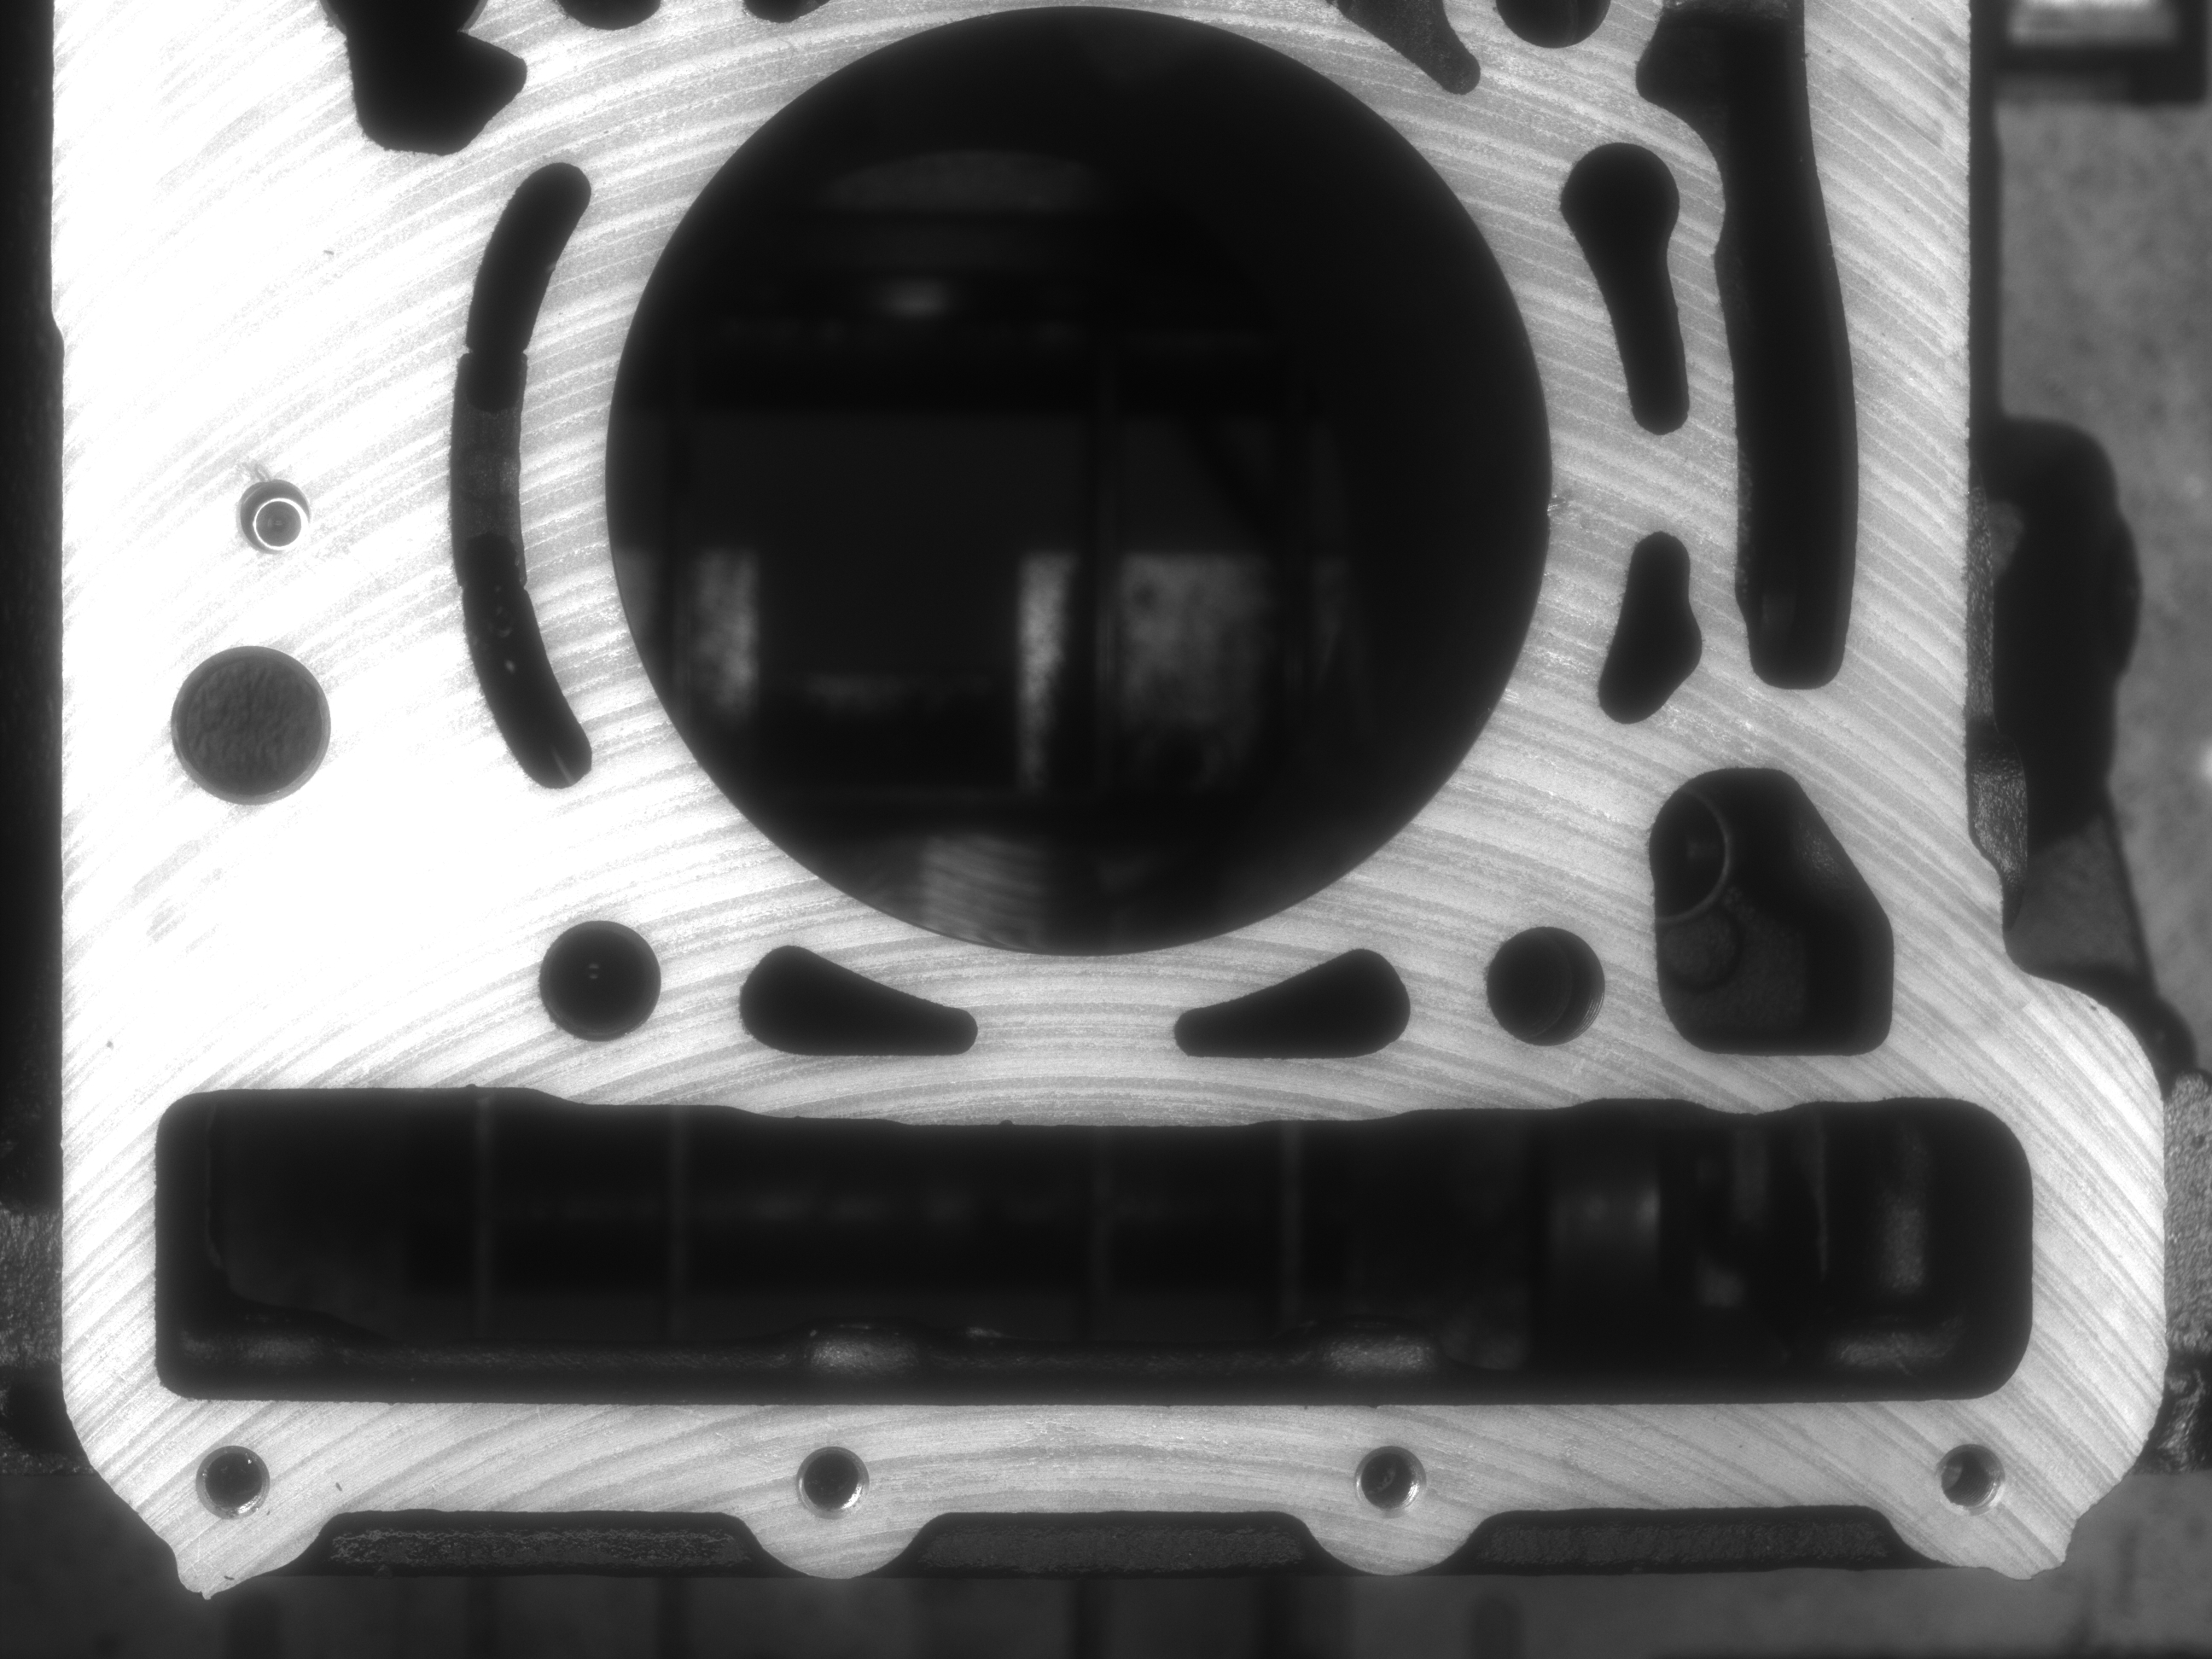shrinkage: (1538, 474, 1580, 521), (228, 460, 275, 483)
